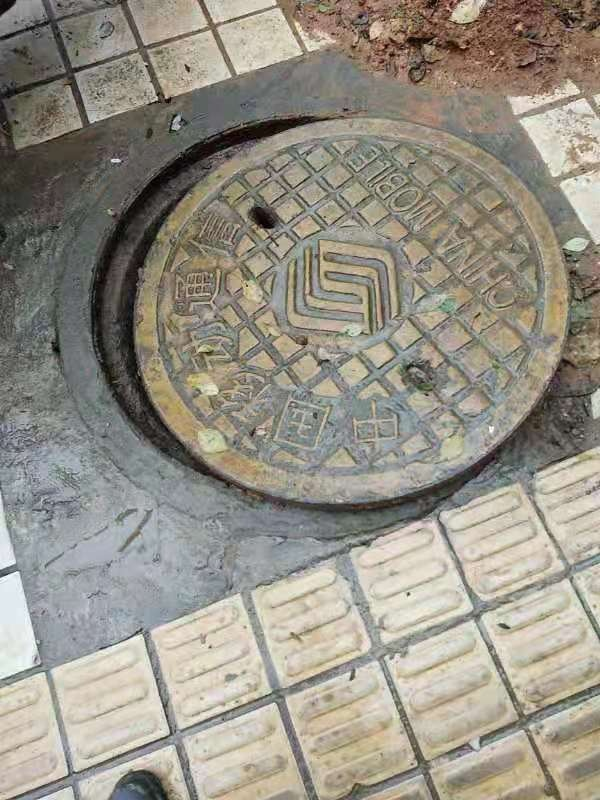uncovered: (55, 101, 567, 540)
